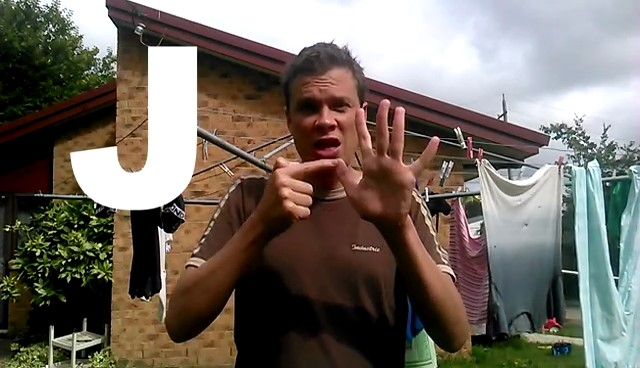J: (256, 95, 442, 223)
